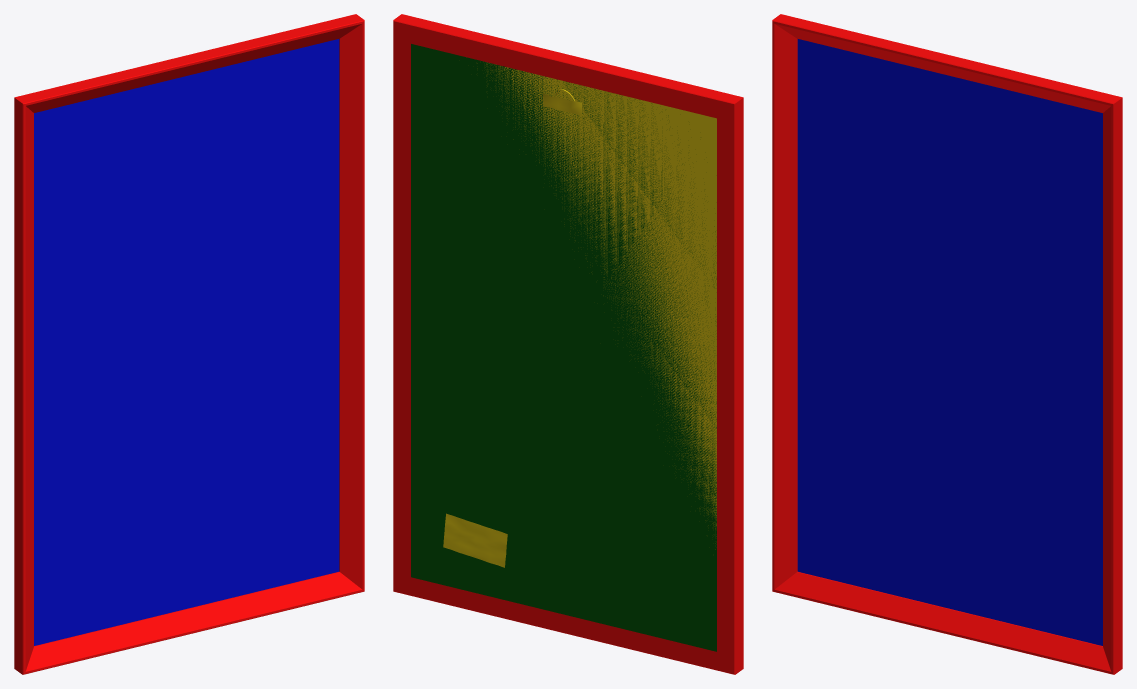
File: Obraz01.fbx
3 views of the same model, side by side, from view 1: azimuth 30°, elevation 25°; view 2: azimuth 150°, elevation 25°; view 3: azimuth 330°, elevation 25° (orthographic).
Parts seen in each view (by area): view 1: Szyba, RamaSplajn; view 2: Obraz, Tyl, RamaSplajn; view 3: Szyba, RamaSplajn.
Boxes of the visible parts, <box> form: Szyba: <box>34,39,339,645</box>; RamaSplajn: <box>14,14,364,674</box>; Obraz: <box>411,44,716,651</box>; Tyl: <box>443,62,716,567</box>; RamaSplajn: <box>393,14,743,674</box>; Szyba: <box>797,39,1102,645</box>; RamaSplajn: <box>772,14,1122,674</box>.
Size of the model in its own units: 67.09 by 107 by 4.14.
